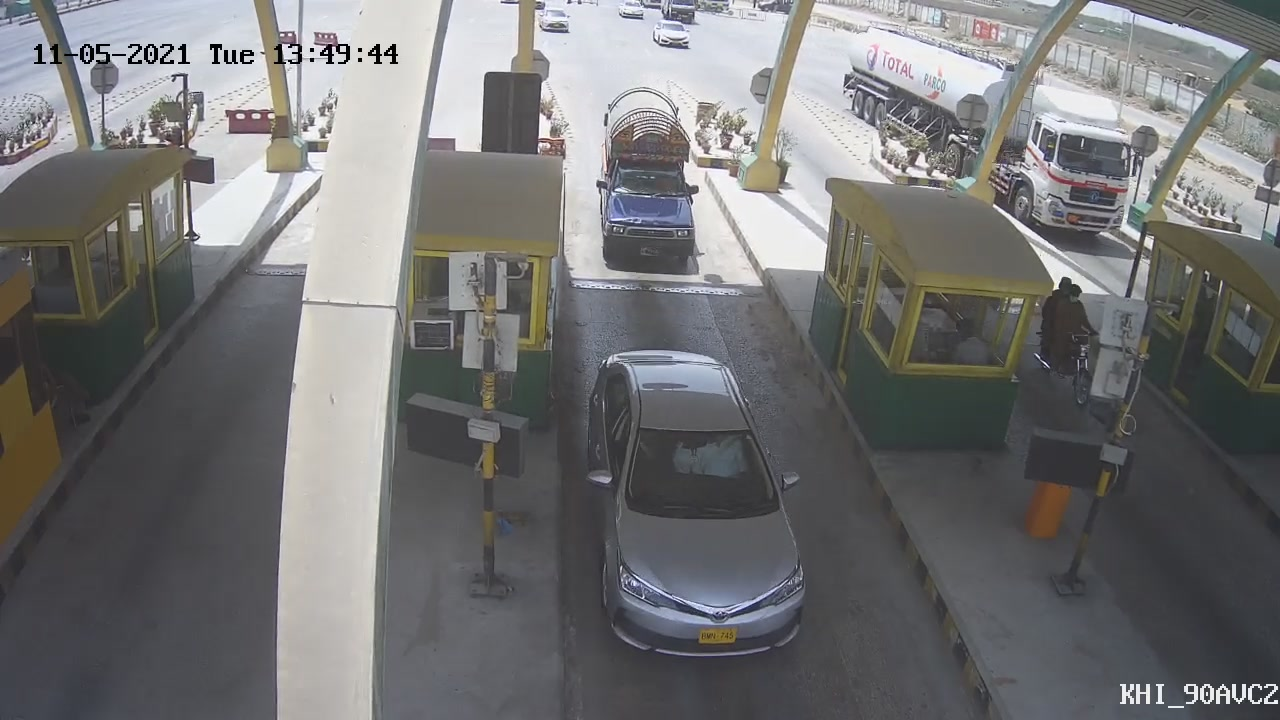F1: (566, 347, 823, 668), (598, 83, 698, 272)
